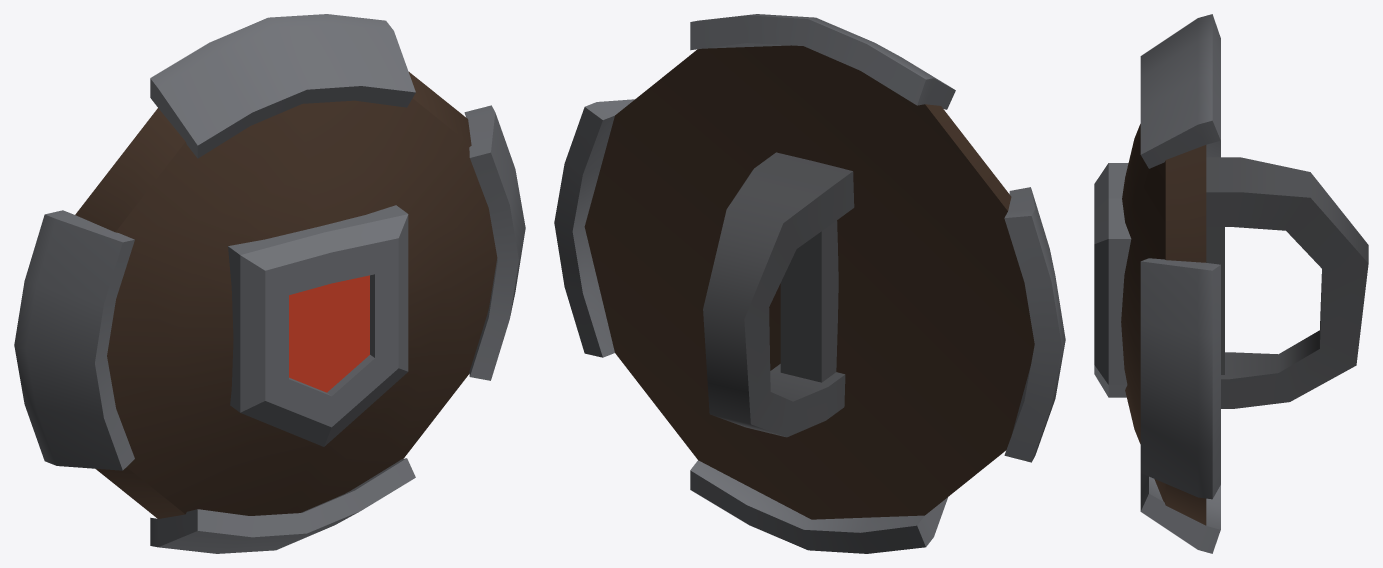
Rendered from Shield_LHand_8.fbx.
3 views of the same model, side by side, from view 1: azimuth 30°, elevation 25°; view 2: azimuth 150°, elevation 25°; view 3: azimuth 270°, elevation 25° (orthographic). The views are drawn at different scales.
Visible parts, largest first — view 1: Shield_LHand_8; view 2: Shield_LHand_8; view 3: Shield_LHand_8.
Part boxes in pixels (x1,y1,x2,y2): Shield_LHand_8: [14, 14, 525, 553]; Shield_LHand_8: [554, 14, 1065, 553]; Shield_LHand_8: [1094, 14, 1368, 553].
Size of the model in its own units: 50.94 by 50.94 by 25.72.
